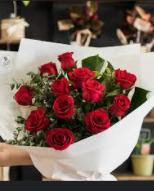RedRose: (112, 66, 140, 92), (46, 128, 75, 153), (84, 108, 109, 136), (68, 66, 97, 90), (12, 81, 39, 105), (26, 107, 50, 133), (51, 93, 75, 118), (81, 80, 104, 105), (110, 94, 129, 122), (54, 52, 77, 71), (36, 62, 58, 80), (50, 78, 71, 94)
